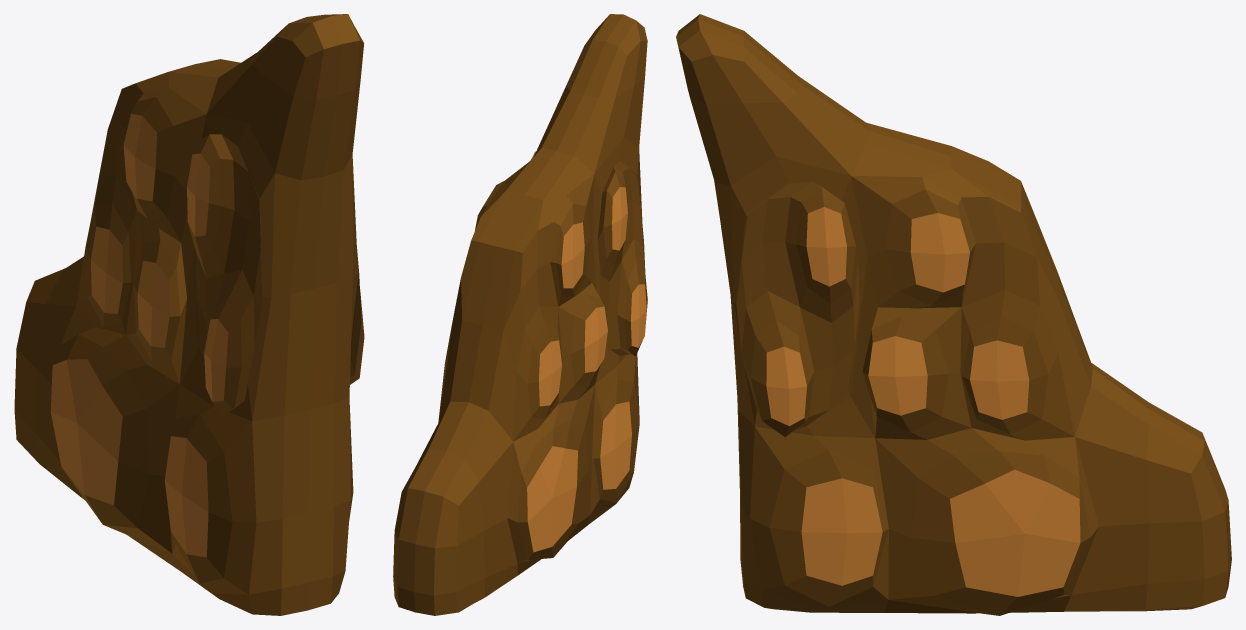
File: peanutbrittleshard.fbx
3 views of the same model, side by side, from view 1: azimuth 30°, elevation 25°; view 2: azimuth 150°, elevation 25°; view 3: azimuth 270°, elevation 25° (orthographic). The views are drawn at different scales.
Parts seen in each view (by area): view 1: Cube; view 2: Cube; view 3: Cube.
Part boxes in pixels (x1,y1,x2,y2): Cube: [14, 14, 364, 615]; Cube: [393, 14, 647, 615]; Cube: [676, 14, 1231, 615].
Bounding box in the file's own units: 171 × 649 × 571.
